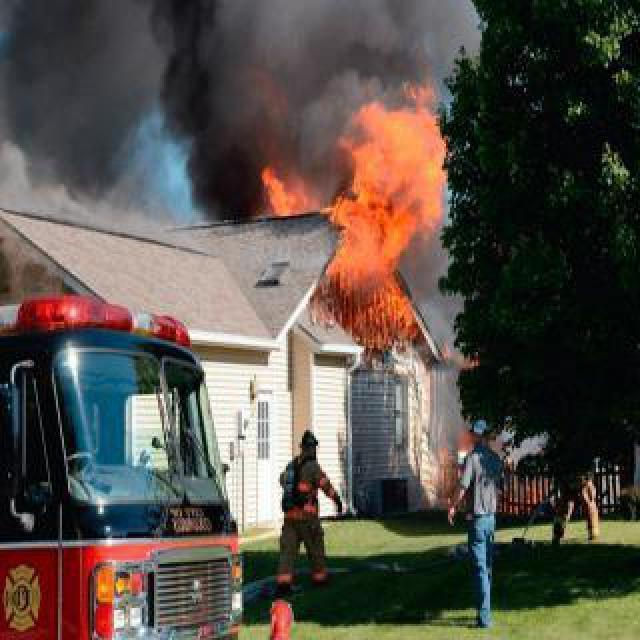Fire: (332, 90, 448, 284), (260, 160, 310, 226)
Smoke: (142, 0, 261, 234)
